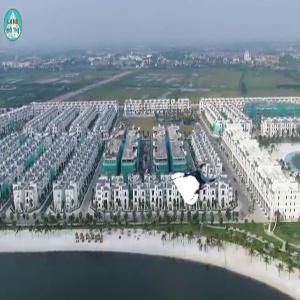drone: (177, 161, 218, 202)
